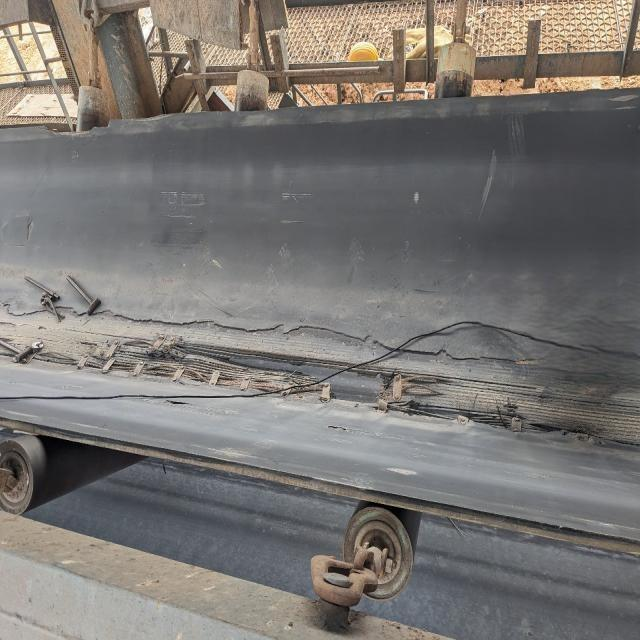Tear: (0, 298, 640, 458), (26, 216, 34, 243)
